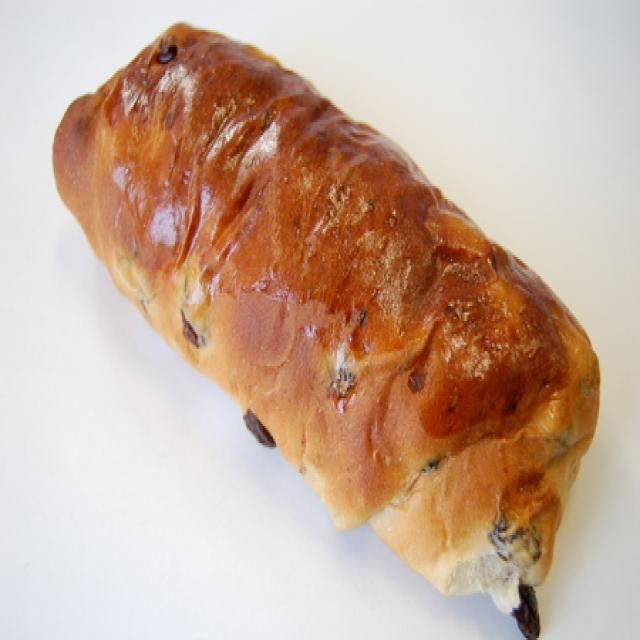面包点心: (53, 0, 603, 640)
